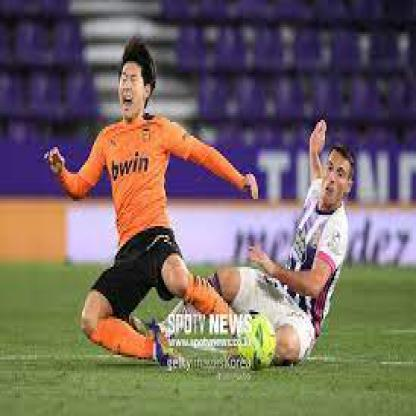Fall_Down: (44, 35, 260, 372)
